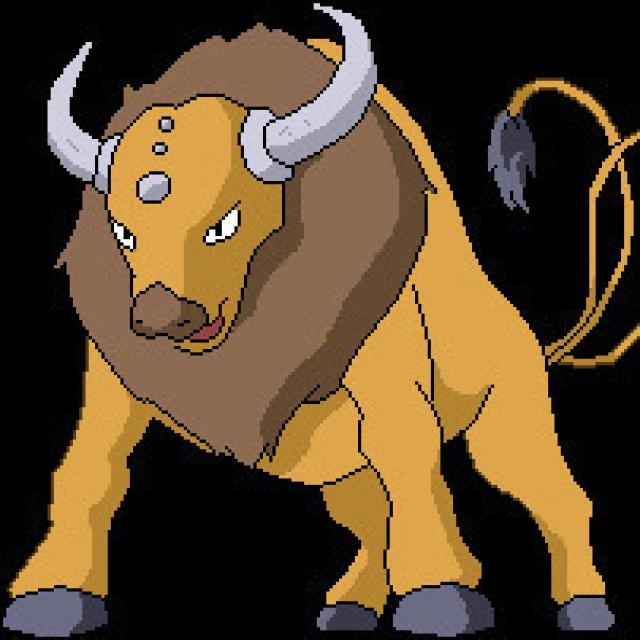Tauros: (77, 6, 496, 455)
